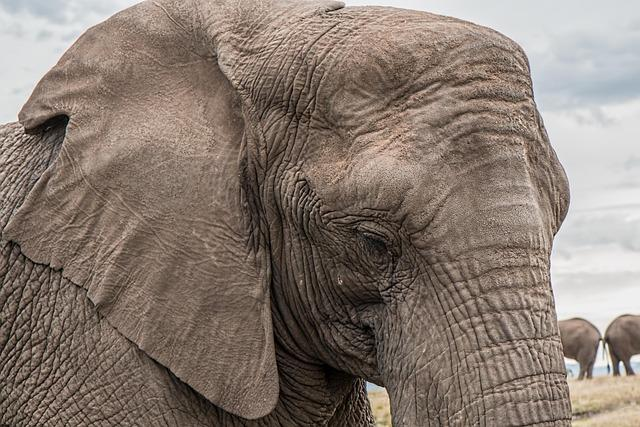Non_Gorille: (14, 11, 594, 427)
